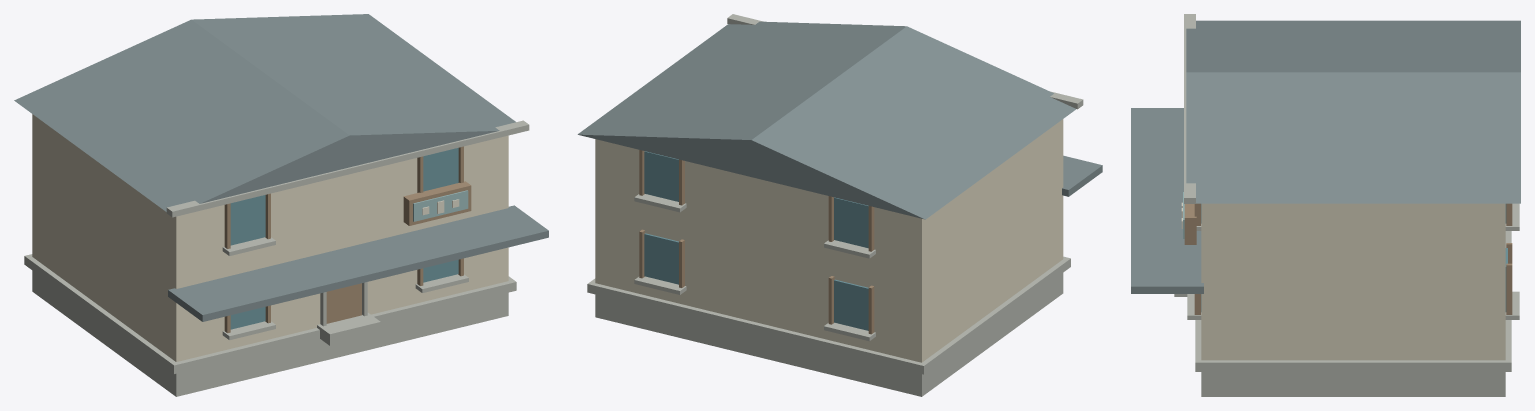
File: shed-0.glb
The picture shows the model from 3 angles, left to right: view 1: azimuth 30°, elevation 25°; view 2: azimuth 150°, elevation 25°; view 3: azimuth 270°, elevation 25°; orthographic projection. The views are drawn at different scales.
Size of the model in its own units: 6.44 by 3.9 by 5.76.
